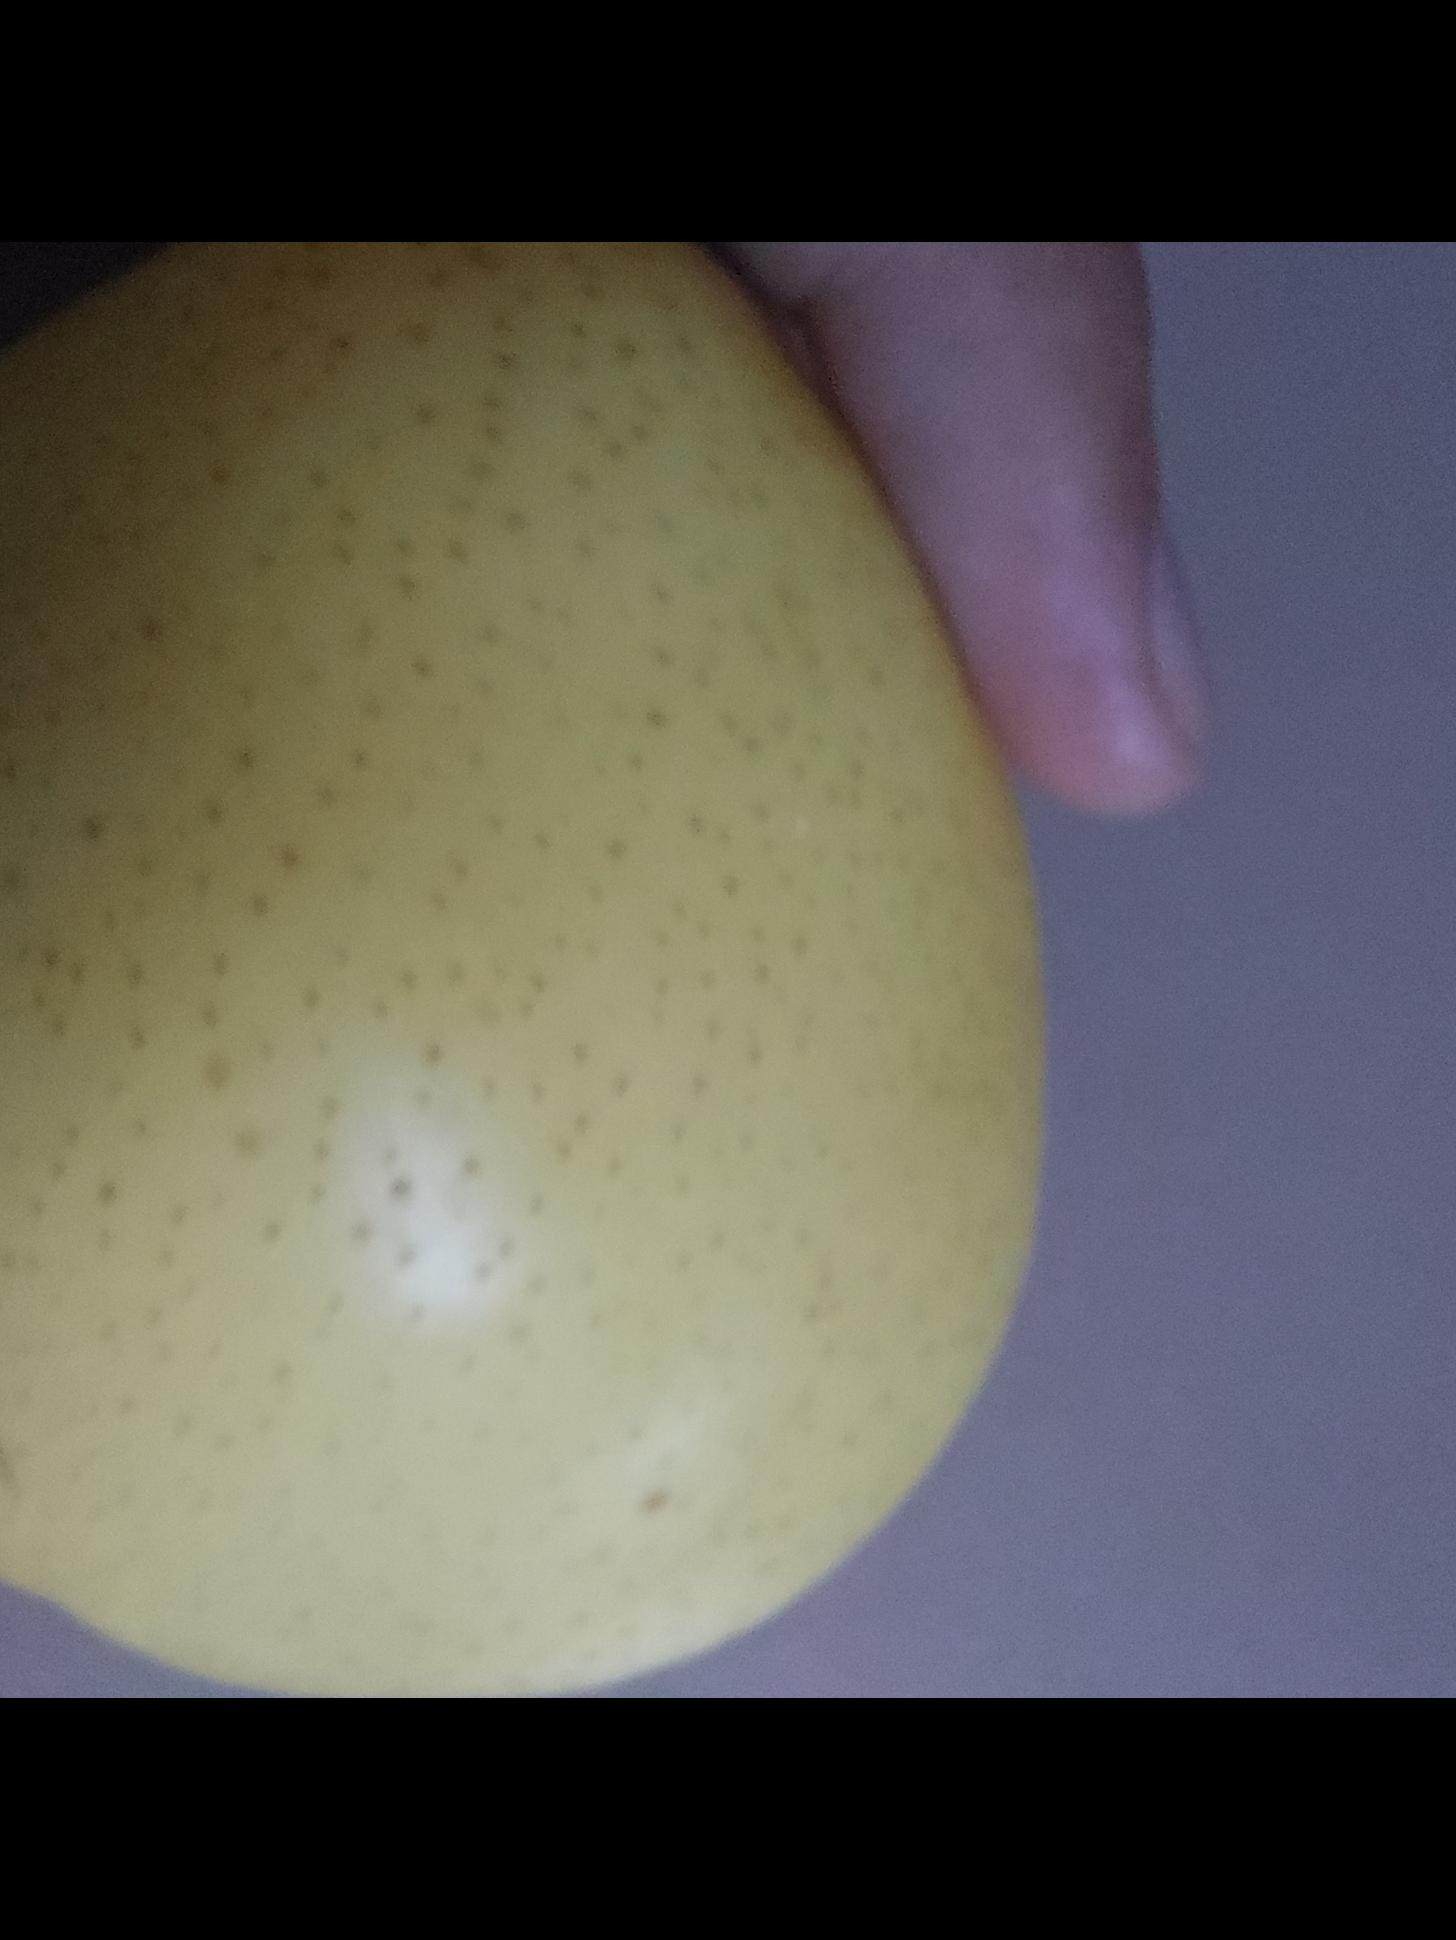Good Pear: (0, 242, 1048, 1698)
